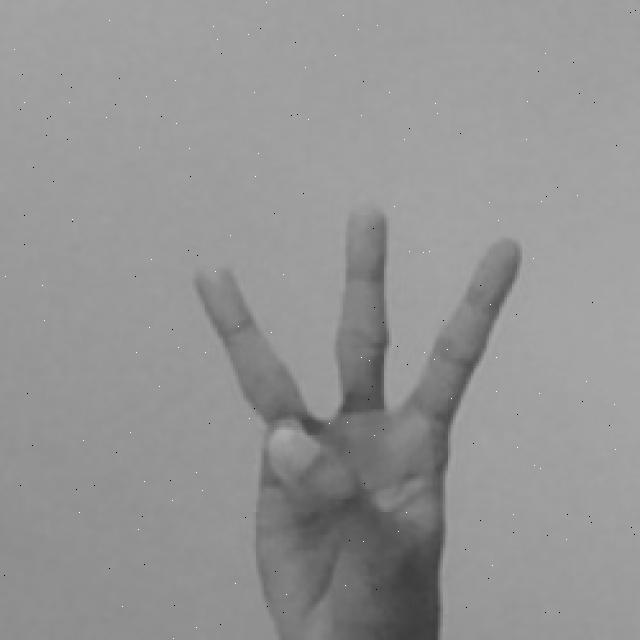W: (192, 197, 525, 640)
